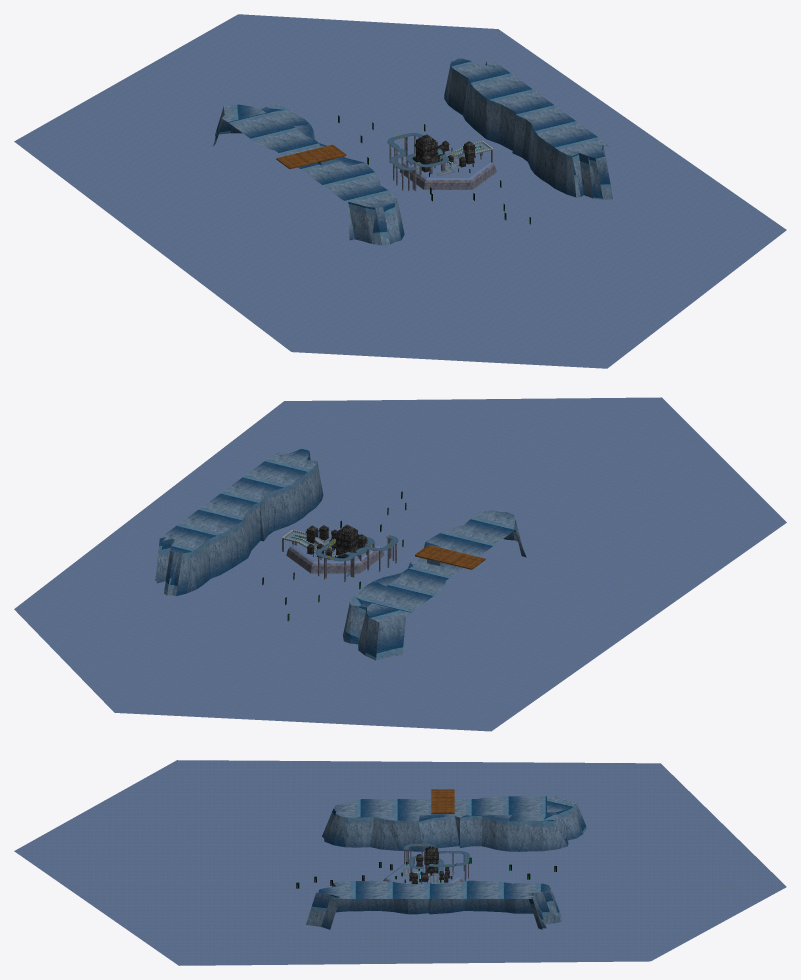
3 renders of one model, top to bottom at view 1: azimuth 30°, elevation 25°; view 2: azimuth 150°, elevation 25°; view 3: azimuth 270°, elevation 25°, orthographic. The views are drawn at different scales.
Parts seen in each view (by area): view 1: polygon16.001, polygon14.001, polygon20.001, polygon15.001, polygon4.002, polygon24.001; view 2: polygon16.001, polygon14.001, polygon20.001, polygon4.002, polygon24.001, polygon15.001; view 3: polygon16.001, polygon14.001, polygon4.002, polygon15.001, polygon24.001, polygon20.001.
Part boxes in pixels (<box>): polygon16.001: <box>14,14,786,368</box>; polygon14.001: <box>213,58,612,245</box>; polygon20.001: <box>387,135,496,191</box>; polygon15.001: <box>404,147,492,179</box>; polygon4.002: <box>412,134,474,171</box>; polygon24.001: <box>276,144,346,169</box>; polygon16.001: <box>14,397,786,731</box>; polygon14.001: <box>155,448,526,660</box>; polygon20.001: <box>282,535,397,581</box>; polygon4.002: <box>306,524,366,558</box>; polygon24.001: <box>415,545,485,569</box>; polygon15.001: <box>290,530,379,563</box>; polygon16.001: <box>14,760,786,965</box>; polygon14.001: <box>306,796,586,929</box>; polygon4.002: <box>409,845,449,884</box>; polygon15.001: <box>386,864,460,883</box>; polygon24.001: <box>431,789,454,813</box>; polygon20.001: <box>383,846,468,883</box>.
Bounding box in the file's own units: 381193 × 28200 × 605453.
18 materials, 18 textured.
